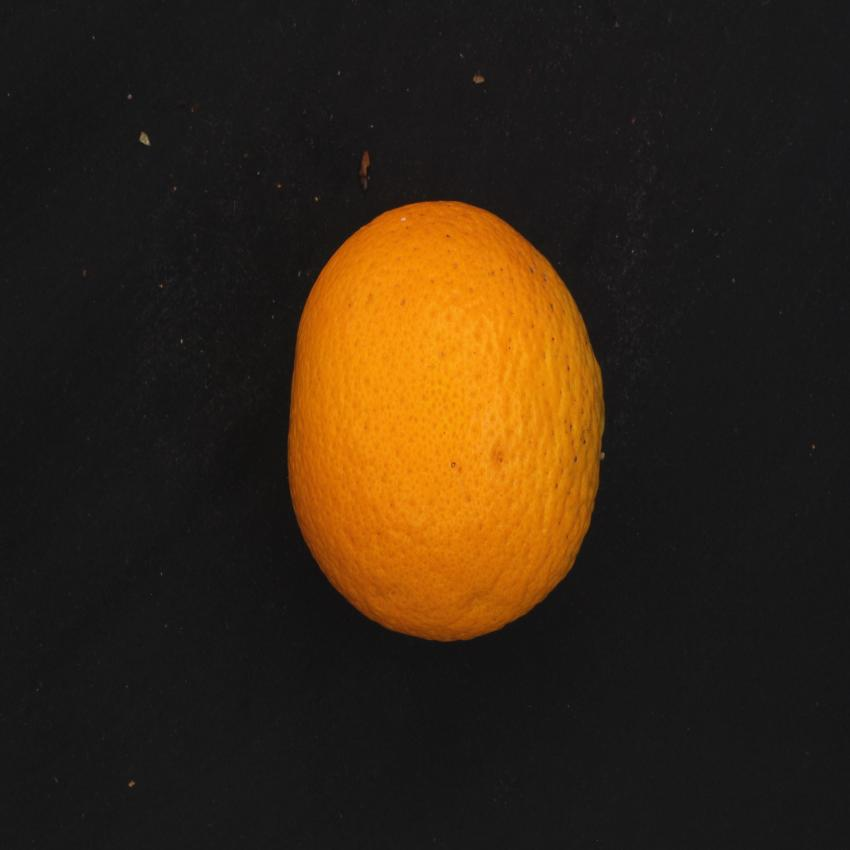Buen estado: (280, 187, 613, 650)
